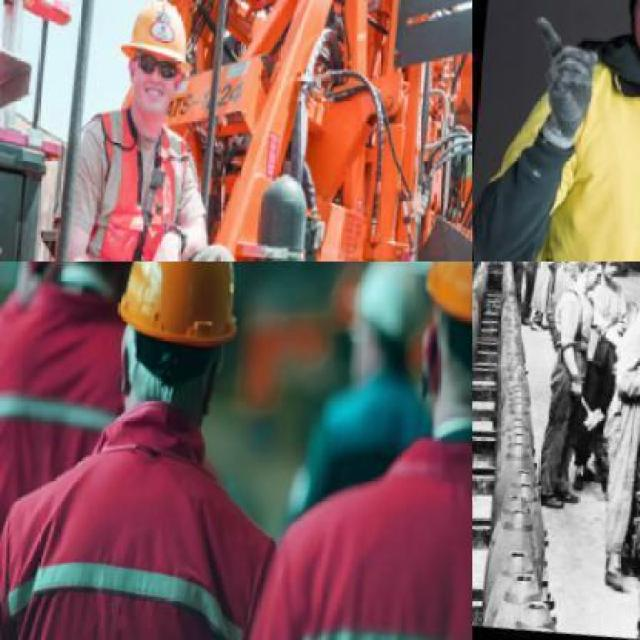Vest: (0, 368, 300, 638), (237, 383, 471, 639), (0, 262, 137, 540), (55, 100, 197, 260)
